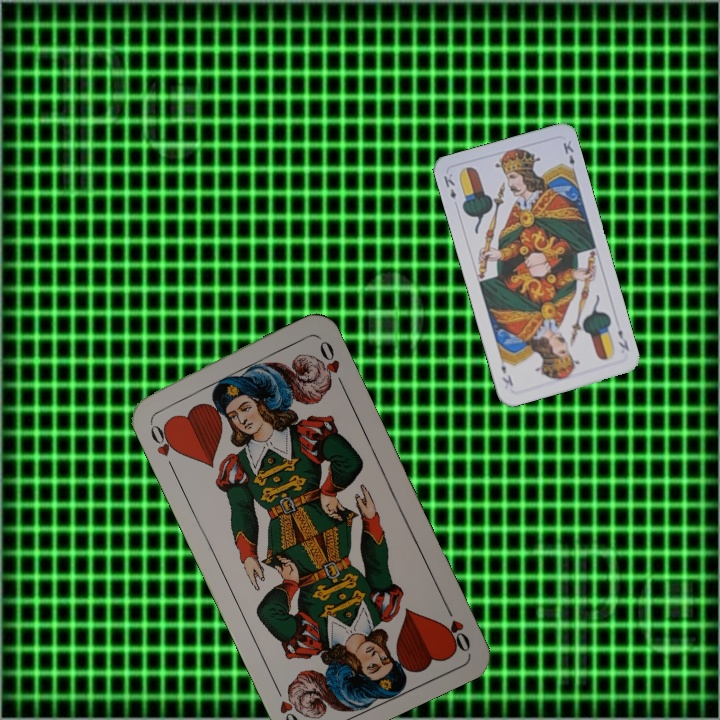EK: (439, 169, 459, 202), (614, 325, 632, 353)
HO: (145, 416, 182, 472), (439, 598, 473, 655)
